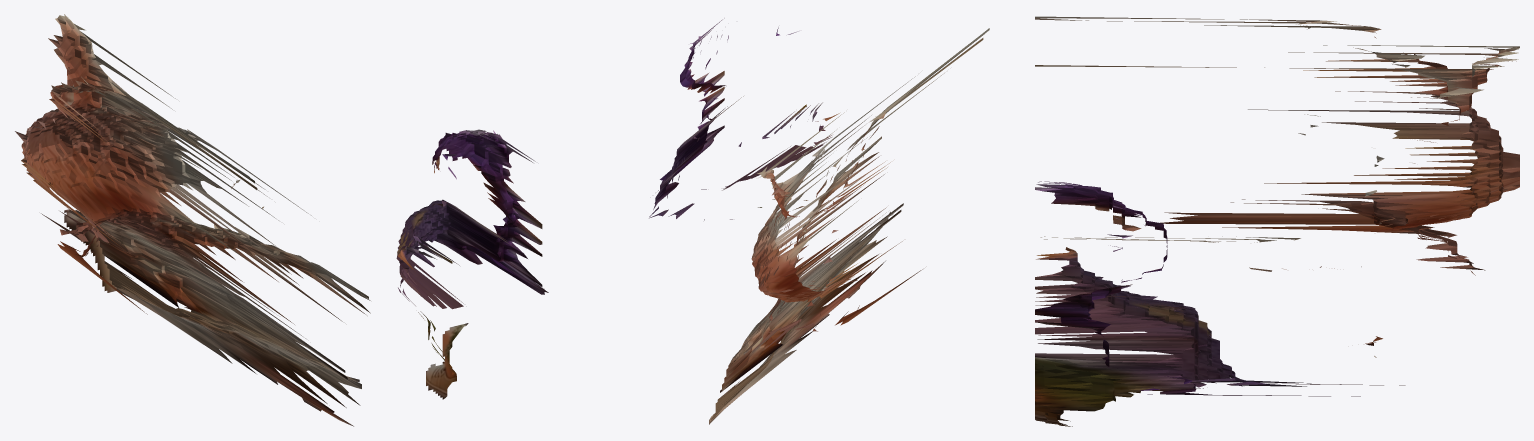
The model's file is frame_00340.glb.
3 renders of one model, left to right at view 1: azimuth 30°, elevation 25°; view 2: azimuth 150°, elevation 25°; view 3: azimuth 270°, elevation 25°, orthographic. The views are drawn at different scales.
Parts seen in each view (by area): view 1: geometry_0; view 2: geometry_0; view 3: geometry_0.
Boxes of the visible parts, bbox=[...] form: geometry_0: bbox=[15, 14, 548, 426]; geometry_0: bbox=[649, 18, 989, 424]; geometry_0: bbox=[1035, 16, 1519, 426].
Size of the model in its own units: 0.1367 by 0.1184 by 0.16.
1 material, 1 textured.
